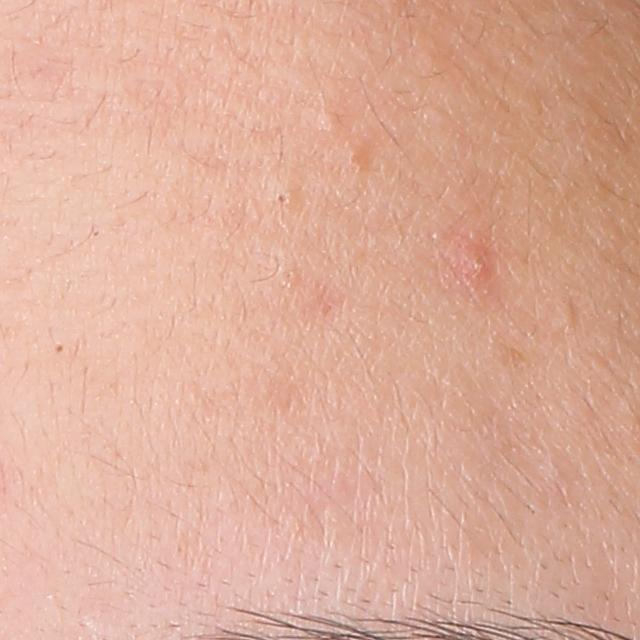comedo: (556, 301, 577, 333), (315, 110, 340, 130), (271, 187, 294, 208), (51, 341, 68, 356)
papule: (448, 238, 495, 285)
